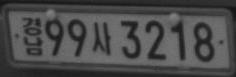1: (169, 19, 189, 61)
2: (144, 19, 167, 61)
3: (119, 19, 142, 59)
8: (192, 20, 215, 62)
9: (66, 17, 88, 56), (45, 17, 65, 57)
경남_V: (20, 16, 45, 56)
사: (90, 21, 112, 56)
